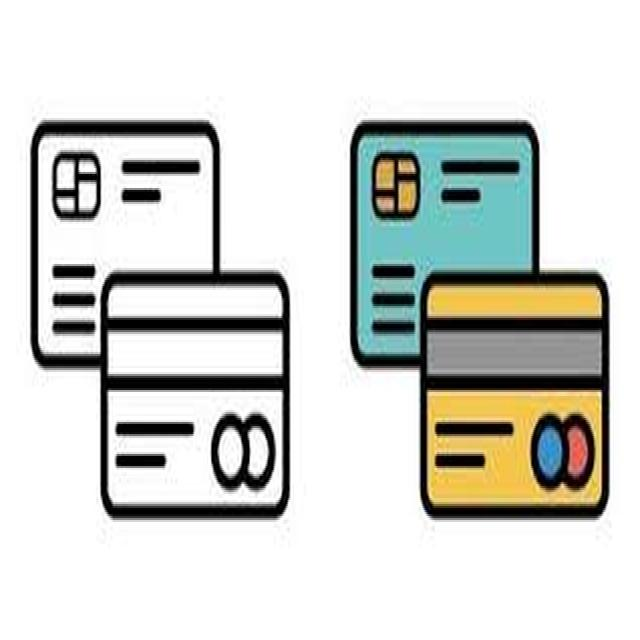card: (29, 84, 248, 349), (419, 250, 626, 520), (75, 300, 309, 516), (353, 116, 529, 312)
